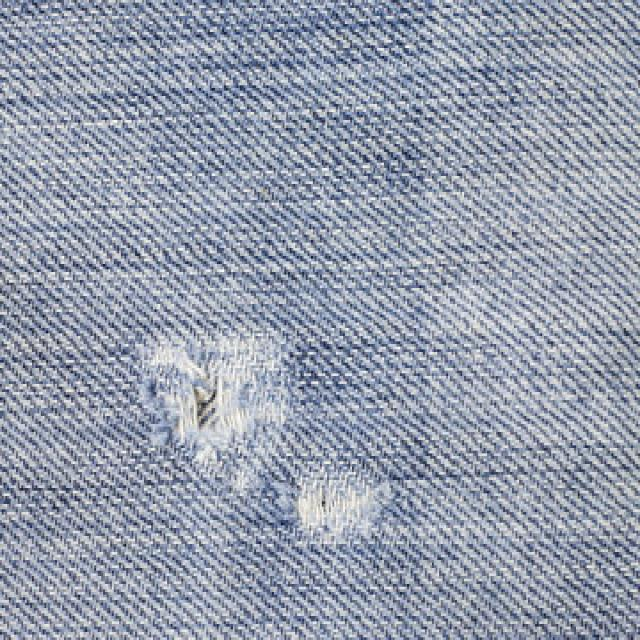Hole: (145, 337, 287, 466), (297, 476, 378, 544)
